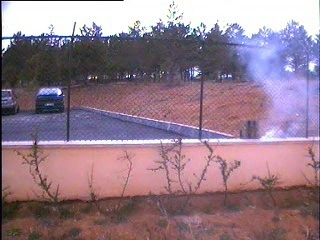smoke: (232, 15, 319, 137)
